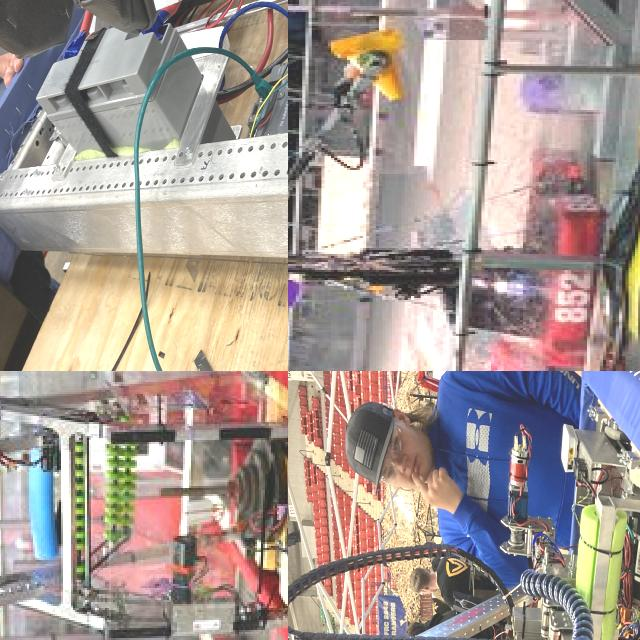FRC-Robots: (288, 371, 640, 640), (0, 371, 288, 640), (288, 131, 627, 346)
